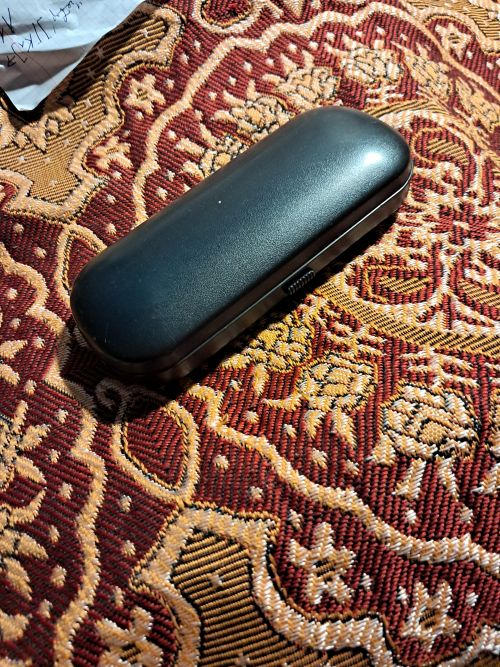case: (70, 105, 412, 383)
